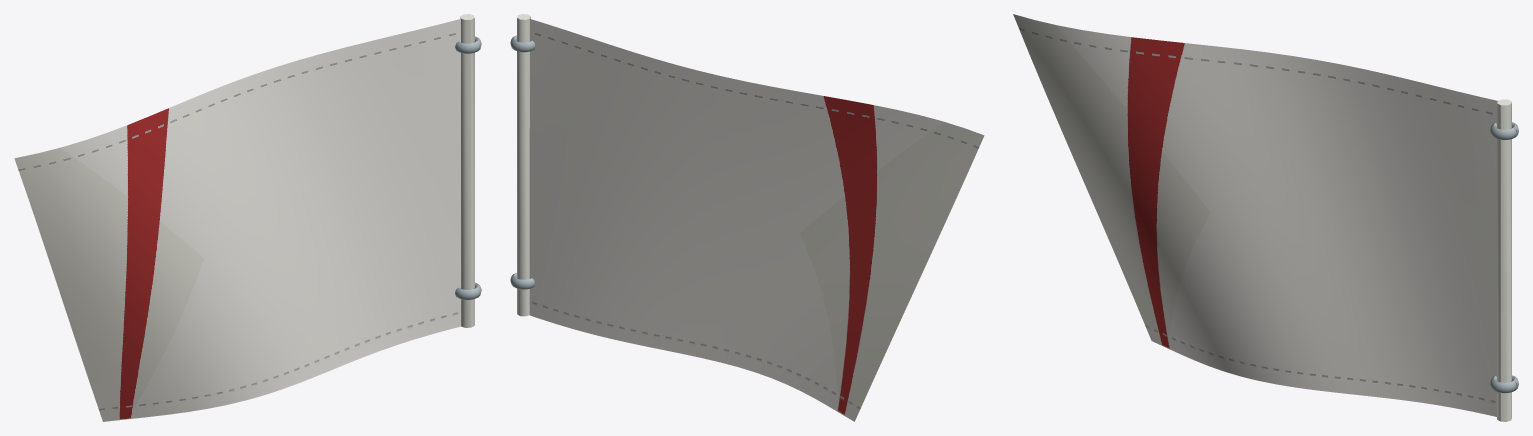
The model's file is Pennant_10_R_外舷・群青.glb.
The picture shows the model from 3 angles, left to right: view 1: azimuth 30°, elevation 25°; view 2: azimuth 150°, elevation 25°; view 3: azimuth 330°, elevation 25°; orthographic projection. The views are drawn at different scales.
Visible parts, largest first — view 1: Pennant_10_R; view 2: Pennant_10_R; view 3: Pennant_10_R.
Part boxes in pixels (box(x1,y1,x2,y2)): Pennant_10_R: box(14, 14, 481, 421); Pennant_10_R: box(510, 14, 984, 421); Pennant_10_R: box(1013, 14, 1518, 421).
Bounding box in the file's own units: 0.2925 × 0.1908 × 0.027.
Materials: 3 (3 with a texture image).
